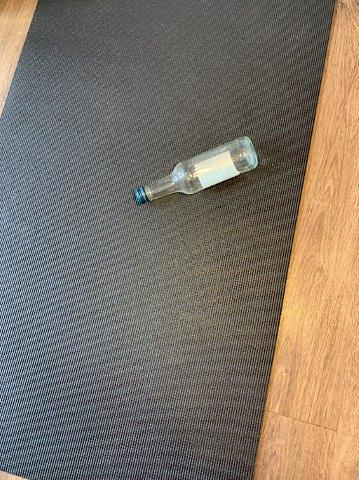botolkaca: (135, 137, 258, 202)
